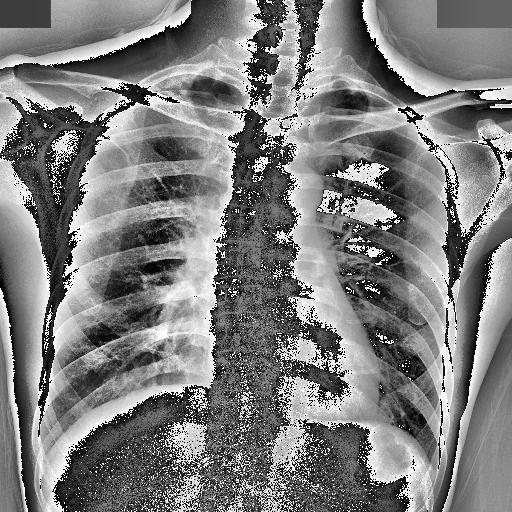11- Pleural thickening: (140, 66, 216, 98), (150, 68, 230, 94), (150, 64, 216, 90), (341, 72, 381, 99), (347, 84, 387, 105)
13- Pulmonary fibrosis: (150, 64, 216, 90)
